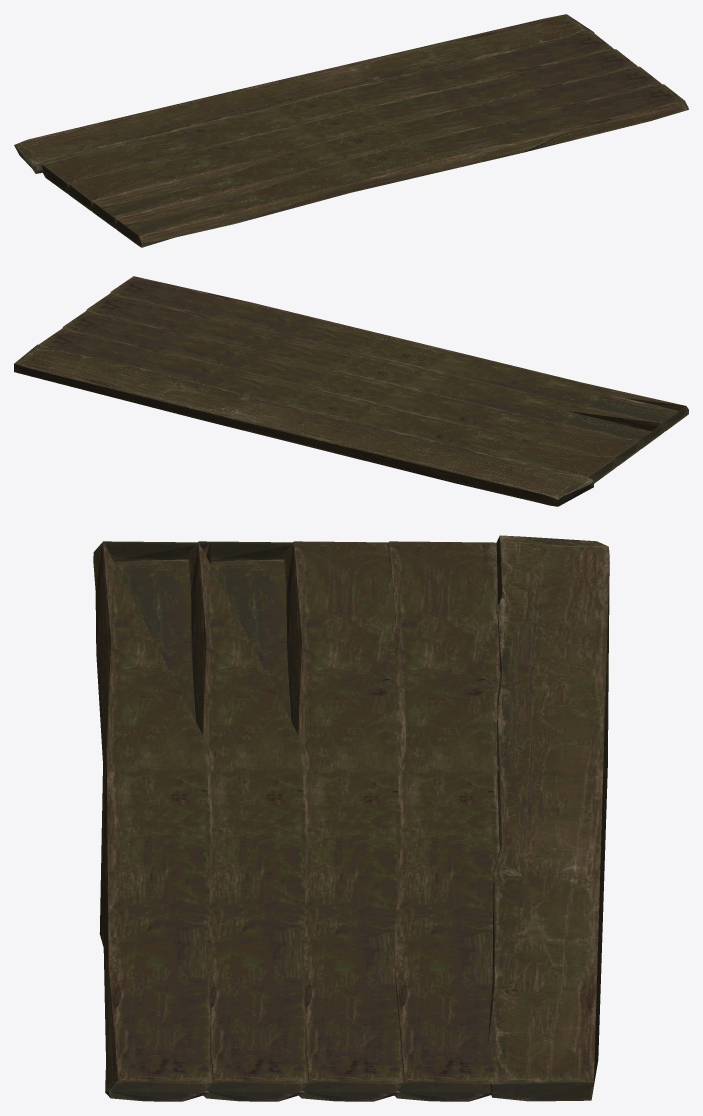
3 views of the same model, one above another, from view 1: azimuth 30°, elevation 25°; view 2: azimuth 150°, elevation 25°; view 3: azimuth 270°, elevation 25° (orthographic). The views are drawn at different scales.
Visible parts, largest first — view 1: Mesh_Wooden_Plank_04_Tex_Wooden_Planks_02_2; view 2: Mesh_Wooden_Plank_04_Tex_Wooden_Planks_02_2; view 3: Mesh_Wooden_Plank_04_Tex_Wooden_Planks_02_2.
Part boxes in pixels (bbox=[...]): Mesh_Wooden_Plank_04_Tex_Wooden_Planks_02_2: bbox=[14, 14, 688, 247]; Mesh_Wooden_Plank_04_Tex_Wooden_Planks_02_2: bbox=[14, 276, 688, 506]; Mesh_Wooden_Plank_04_Tex_Wooden_Planks_02_2: bbox=[93, 535, 609, 1101].
Size of the model in its own units: 3.78 by 0.083 by 1.51.
Materials: 1 (1 with a texture image).
